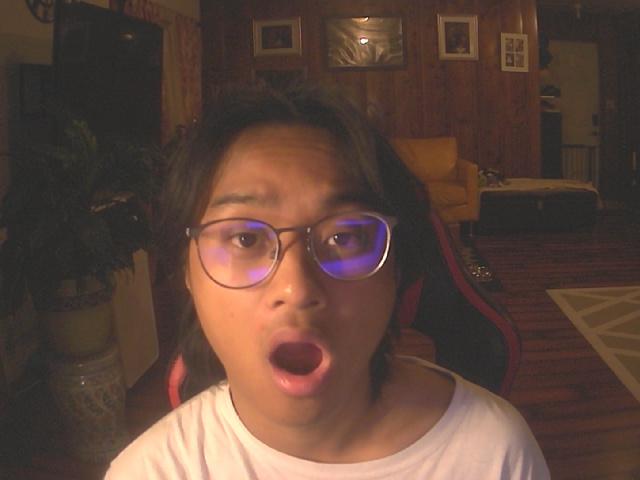fear: (151, 79, 432, 428)
